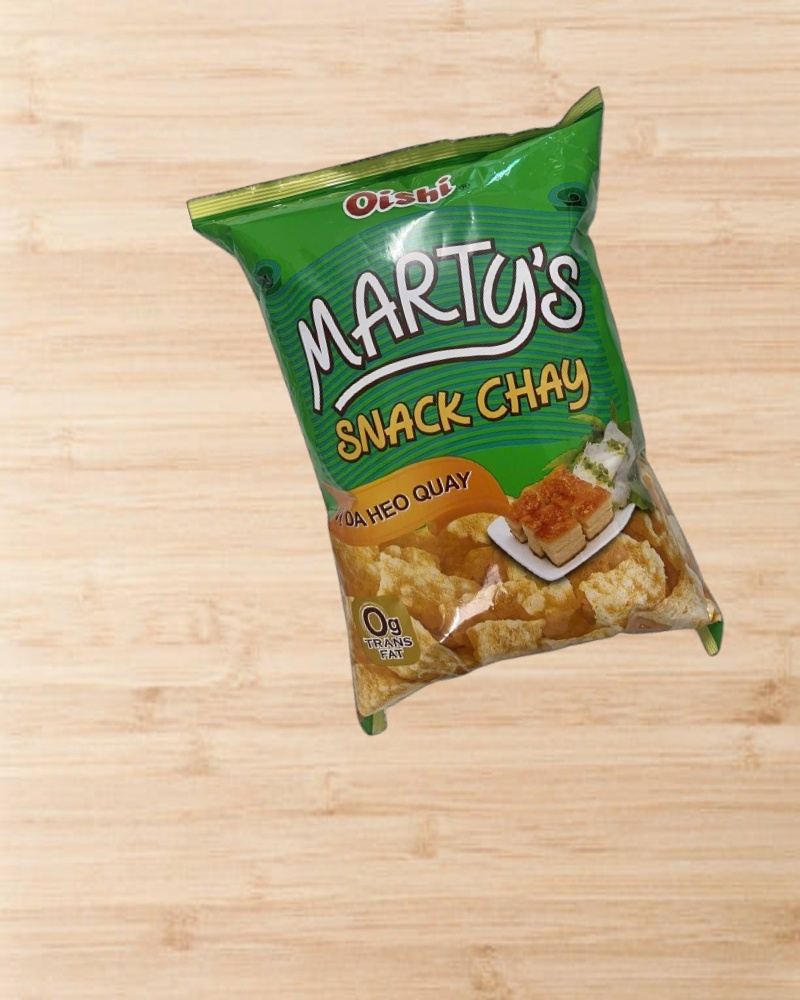Snack chay: (186, 86, 750, 757)
